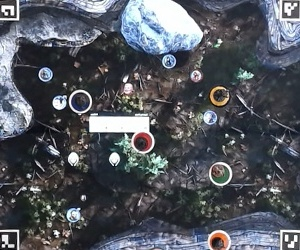blue: (68, 90, 91, 113)
orange: (206, 226, 232, 249), (208, 162, 231, 185)
red: (133, 130, 156, 153)
yellow_night_blue: (209, 85, 232, 108)
